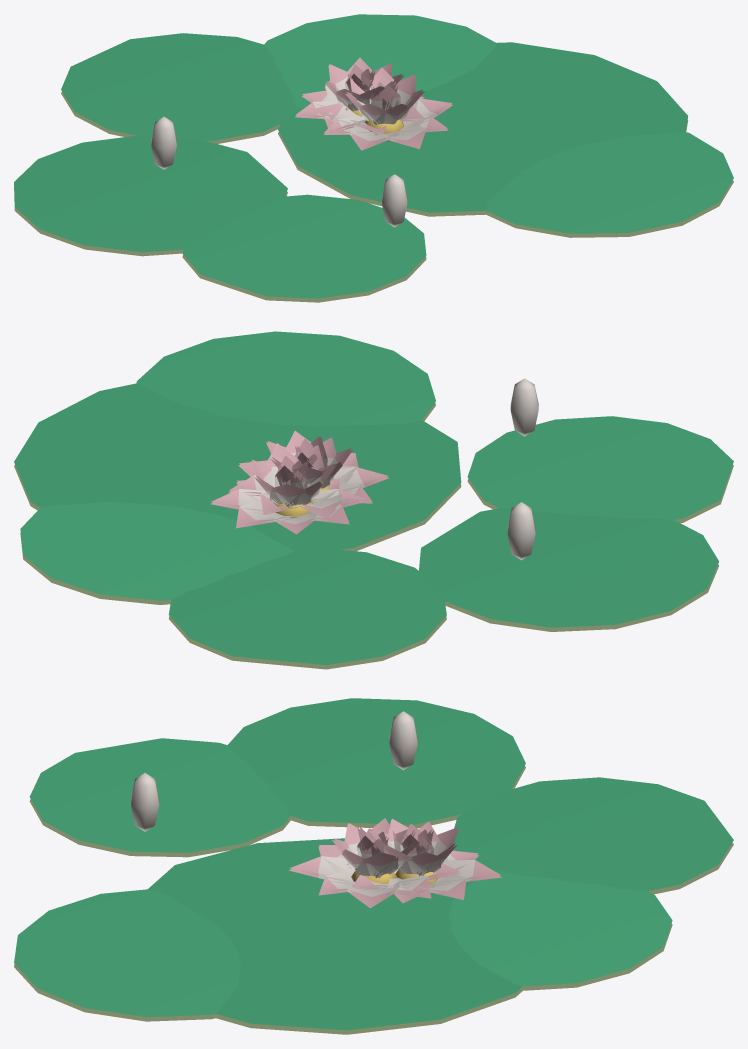
File: flora_lily_pads.gltf
The picture shows the model from 3 angles, top to bottom: view 1: azimuth 30°, elevation 25°; view 2: azimuth 150°, elevation 25°; view 3: azimuth 270°, elevation 25°; orthographic projection. The views are drawn at different scales.
Parts seen in each view (by area): view 1: flora_lily_pads; view 2: flora_lily_pads; view 3: flora_lily_pads.
Part boxes in pixels (x1=…): flora_lily_pads: x1=14, y1=14, x2=733, y2=302; flora_lily_pads: x1=14, y1=331, x2=733, y2=669; flora_lily_pads: x1=14, y1=698, x2=733, y2=1034.
Size of what is drawn, in the model's own units: 0.9636 by 0.097 by 0.8825.
